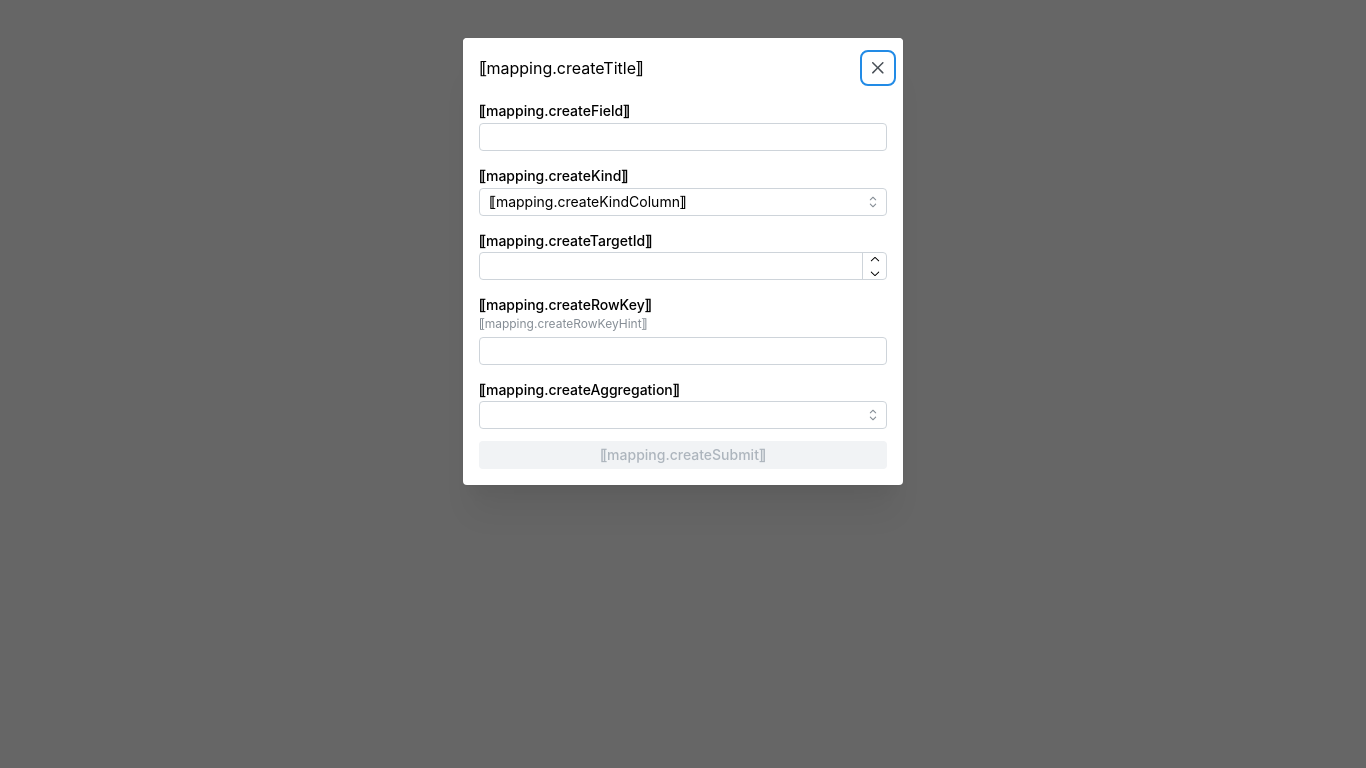
Scenario: Проба шляху мапінгу (ФВ-13.17) › 404 із підказками — перелік клікабельний і підставляє значення в поле
Step 1. Type "Plant/Unit1|CO3" into the field labelled "⟦mapping.createField⟧" → (683, 137), box [479,123,887,151]
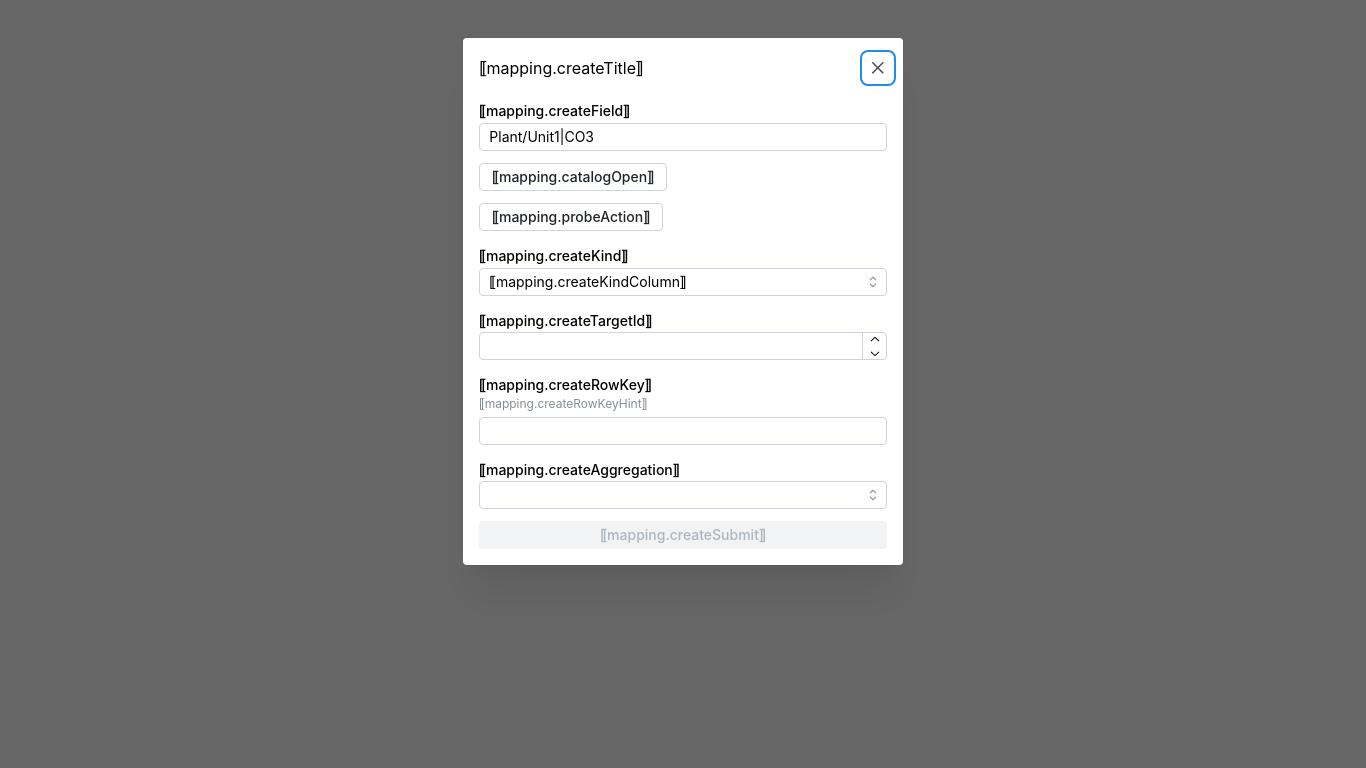
Step 2. Click the button "⟦mapping.probeAction⟧" → (571, 217), box [479,203,663,231]
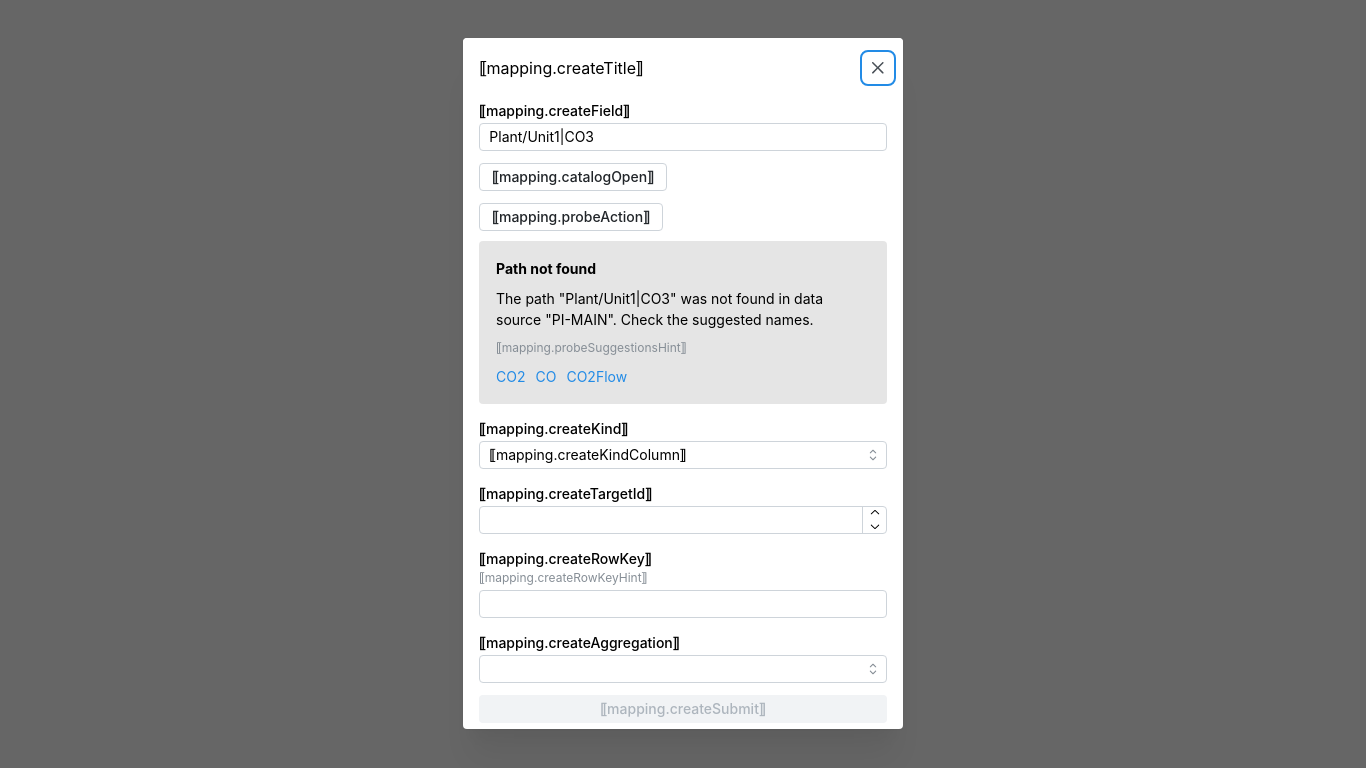
Expected: the message is shown, [479,241,887,405]
Expected: the text "The path \"Plant/Unit1|CO3\" was not found in data source \"PI-MAIN\". Check the suggested names." is shown, [496,291,823,328]
Step 3. Click the button "CO2" → (511, 377), box [496,367,526,388]
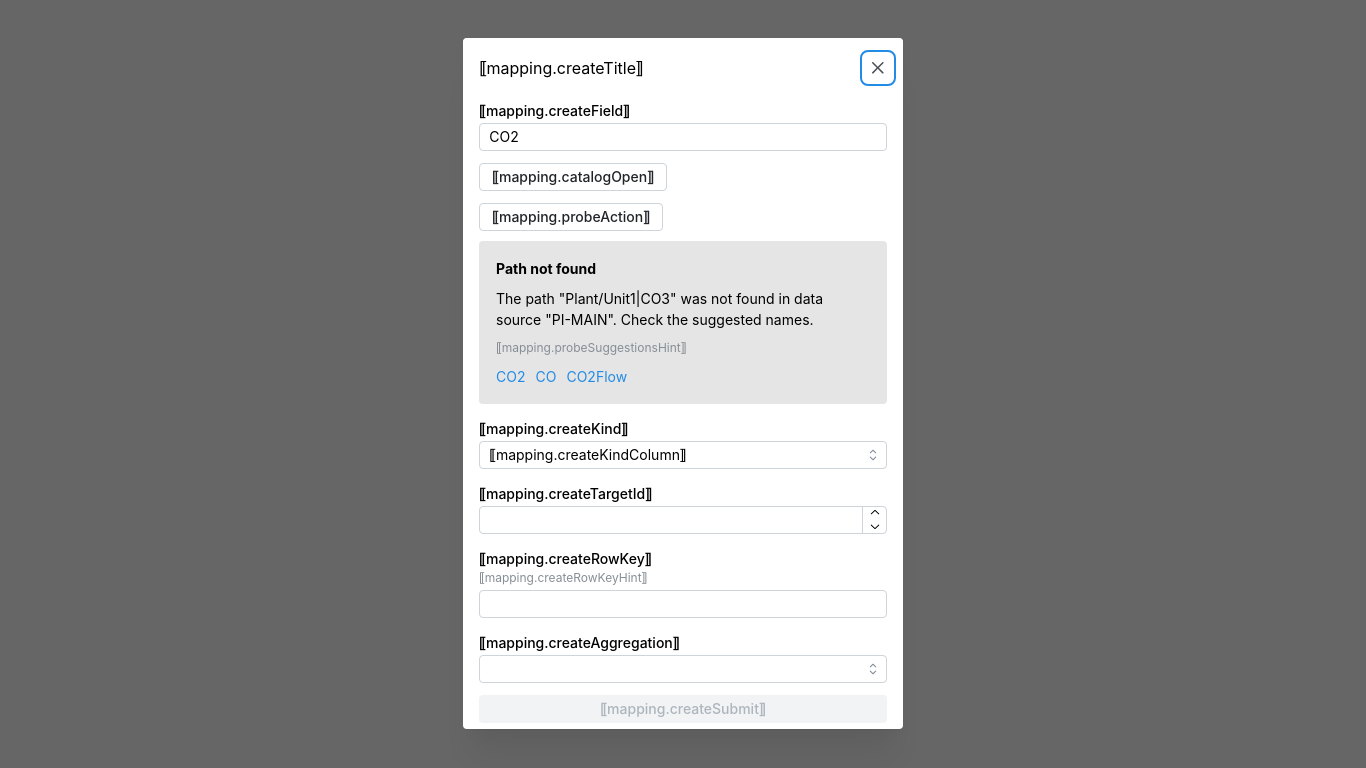
Expected: the field labelled "⟦mapping.createField⟧" holds "CO2", [479,123,887,151]
